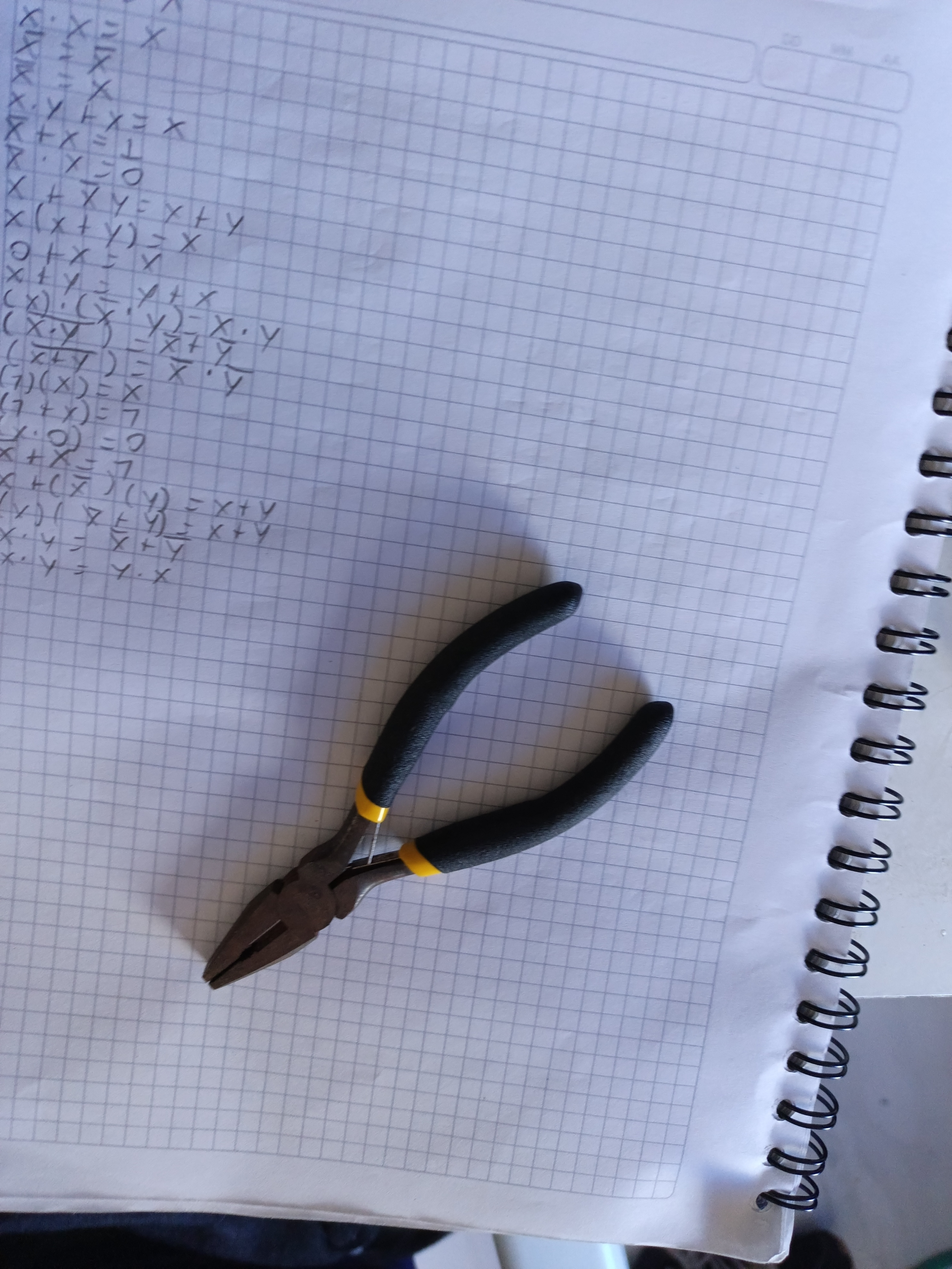Pinzas: (203, 582, 672, 989)
